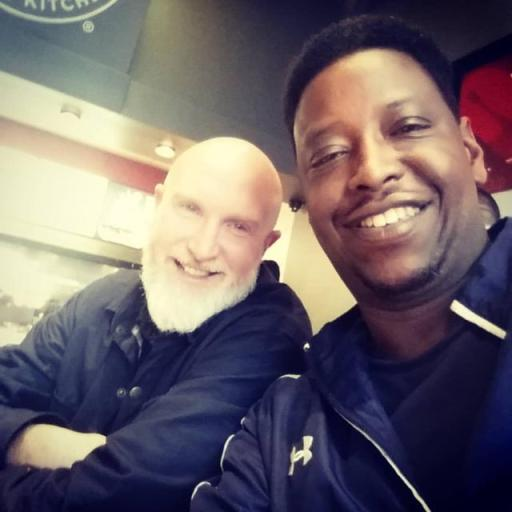Under Armour: (285, 430, 317, 478)
